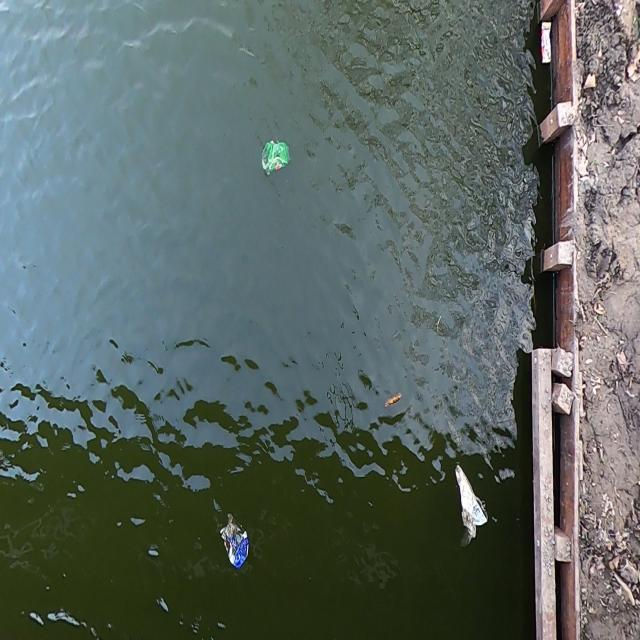Sac plastique: (446, 456, 490, 551), (216, 514, 252, 574), (260, 138, 294, 182)
